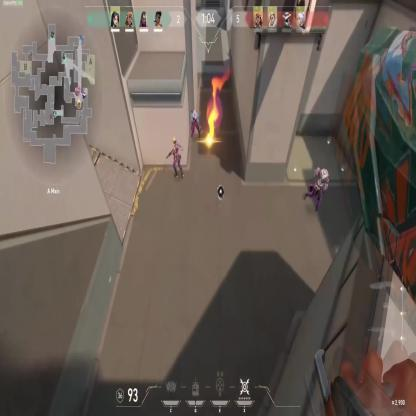enemy: (305, 166, 329, 216), (167, 137, 185, 180), (190, 107, 202, 139)
enemy_head: (321, 169, 328, 180), (172, 136, 176, 145), (193, 110, 196, 117)
